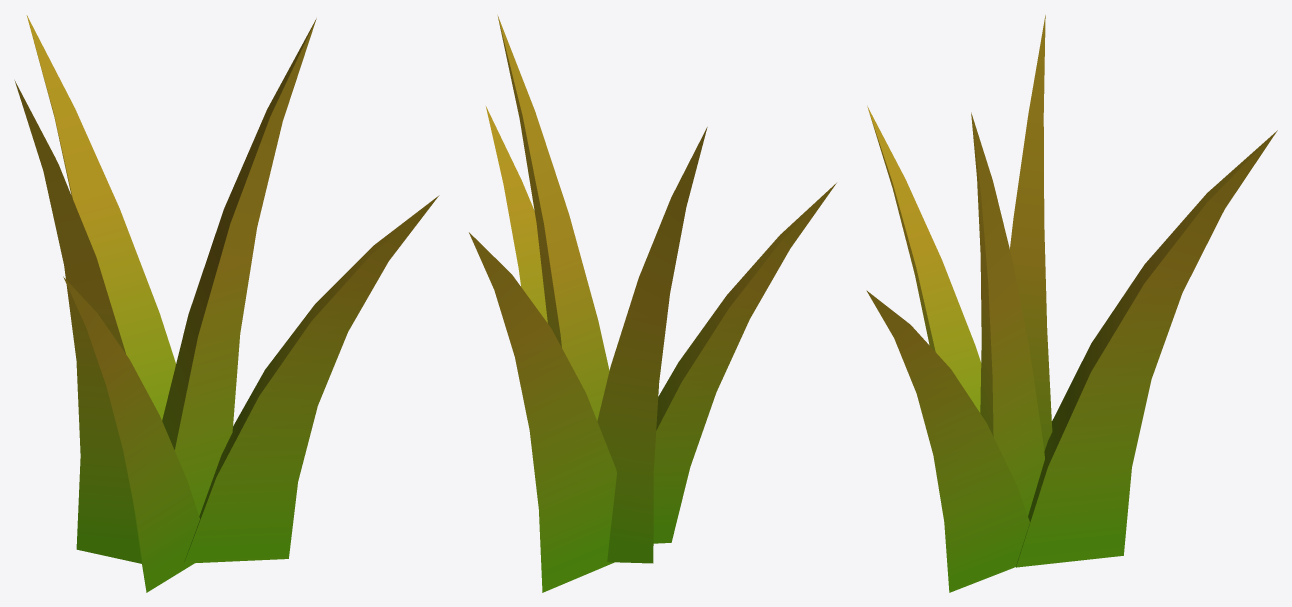
File: Grass03.fbx
3 renders of one model, left to right at view 1: azimuth 30°, elevation 25°; view 2: azimuth 150°, elevation 25°; view 3: azimuth 270°, elevation 25°, orthographic. The views are drawn at different scales.
Parts seen in each view (by area): view 1: LOD0; view 2: LOD0; view 3: LOD0.
Boxes of the visible parts, left/top/right/bottom form: LOD0: left=14, top=15, right=439, bottom=592; LOD0: left=469, top=15, right=836, bottom=592; LOD0: left=866, top=15, right=1277, bottom=592.
Size of what is drawn, in the model's own units: 71.61 by 71.15 by 96.06.
